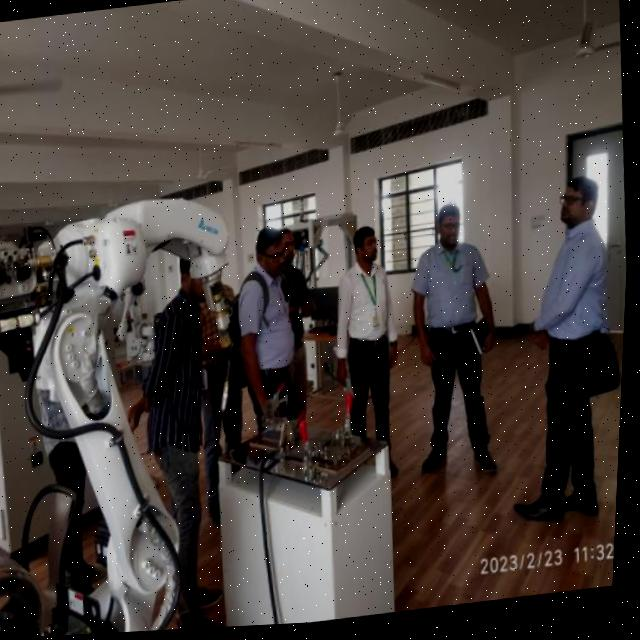id_card: (358, 272, 390, 336), (439, 251, 471, 283)
